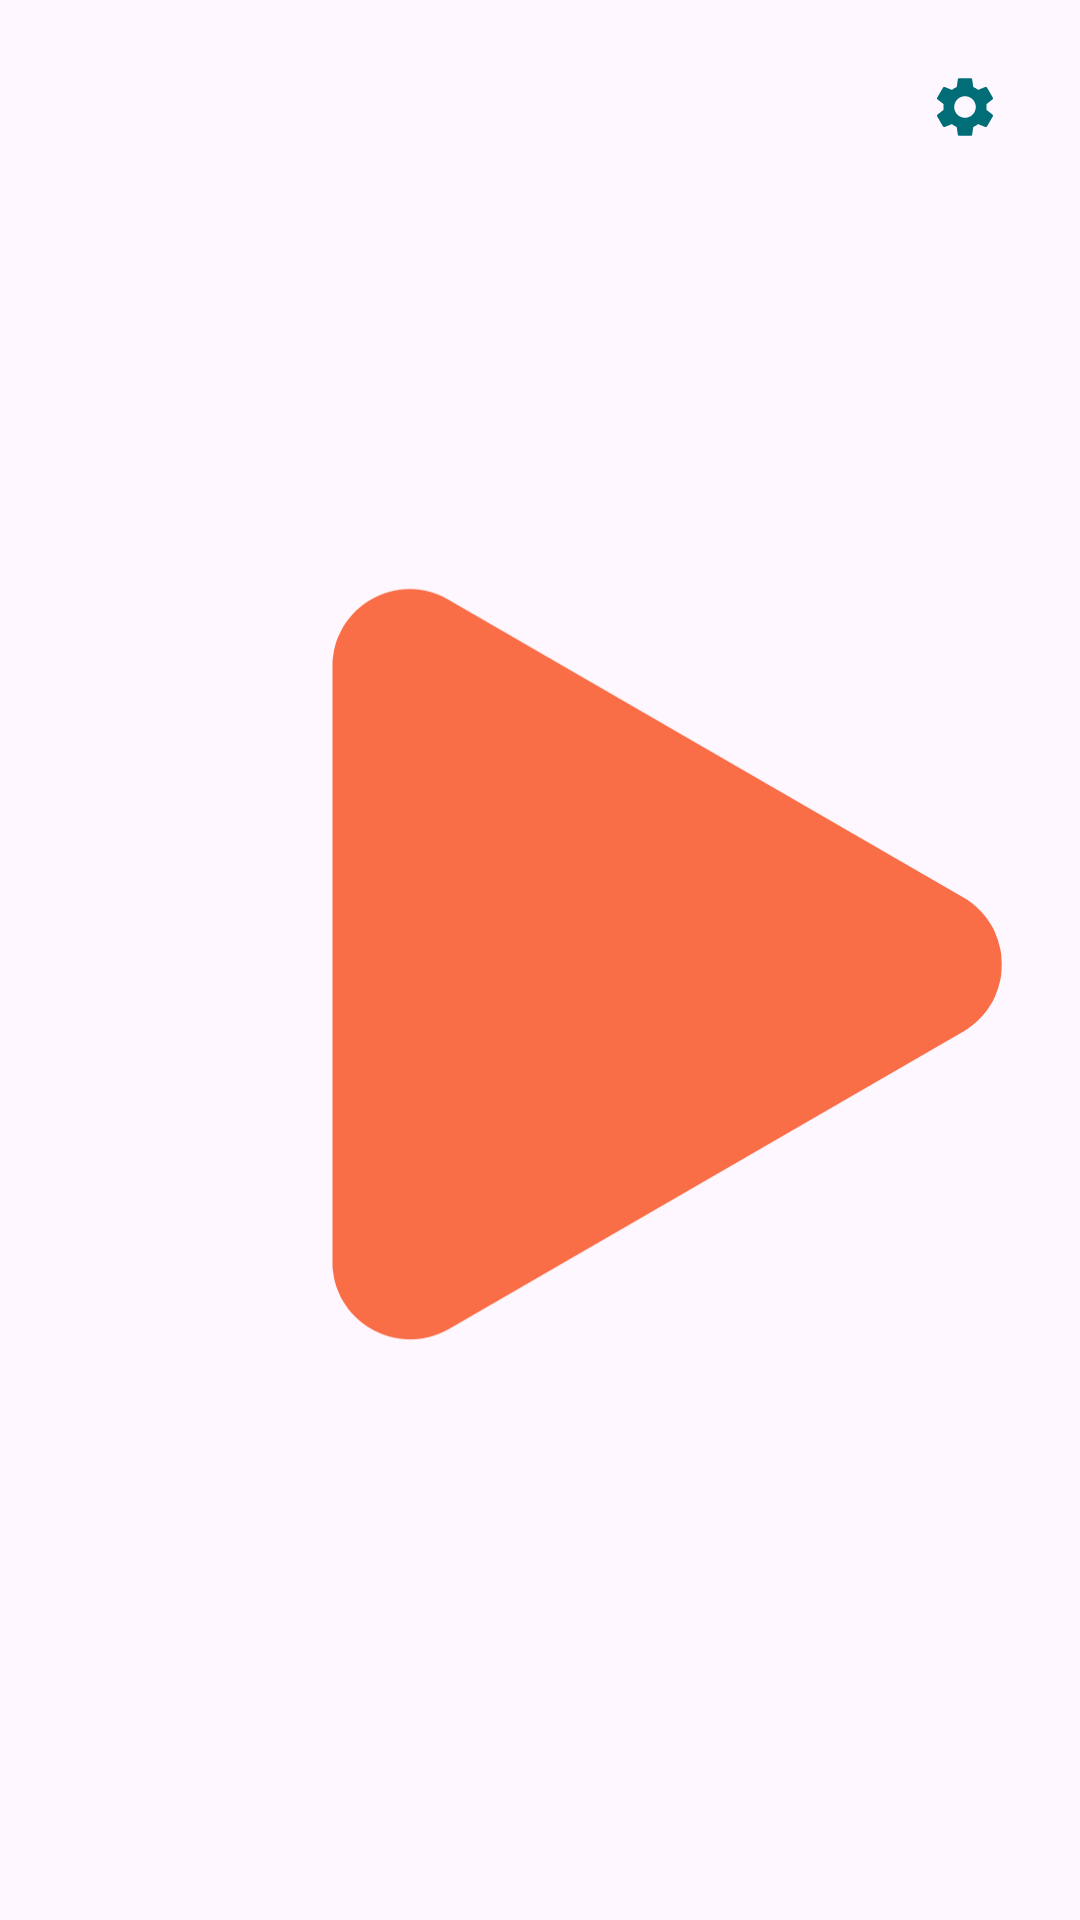

Icon click points for this 1080 x 1920 phone screenshot, format [x,y]:
settings: [965,107]
